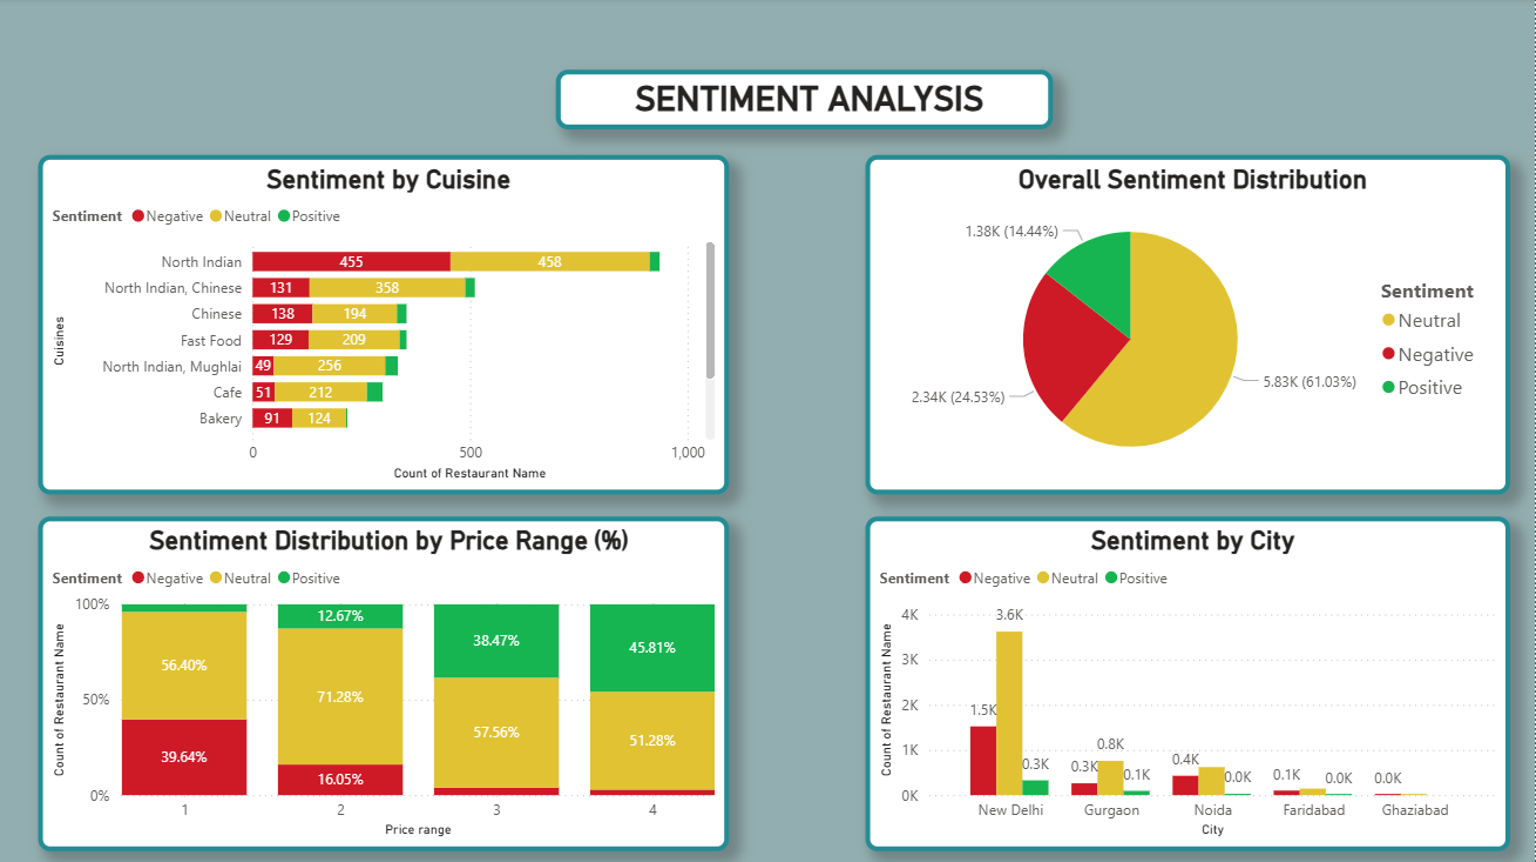

The page's visual inventory and layout, read from the dashboard file:
{"tool":"powerbi","page":{"name":"Page 2","canvas":[1280,720],"ordinal":1},"visuals":[{"type":"textbox","title":"SENTIMENT ANALYSIS","box":[463.8,60.4,414.4,49.4],"z":0},{"type":"pieChart","title":"Overall Sentiment Distribution","fields":{"Category":["zomato.Sentiment"],"Y":["CountNonNull(zomato.Restaurant Name)"]},"box":[721.8,130.4,537.9,282.7],"z":1000},{"type":"barChart","title":"Sentiment by Cuisine","fields":{"Category":["zomato.Cuisines"],"Series":["zomato.Sentiment"],"Y":["CountNonNull(zomato.Restaurant Name)"]},"box":[31.6,130.4,576.3,282.7],"z":2000},{"type":"clusteredColumnChart","title":"Sentiment by City","fields":{"Category":["zomato.City"],"Y":["CountNonNull(zomato.Restaurant Name)"],"Series":["zomato.Sentiment"]},"box":[721.8,432.2,537.9,278.6],"z":3000},{"type":"hundredPercentStackedColumnChart","title":"Sentiment Distribution by Price Range (%)","fields":{"Category":["zomato.Price range"],"Y":["CountNonNull(zomato.Restaurant Name)"],"Series":["zomato.Sentiment"]},"box":[31.6,432.2,576.3,278.6],"z":4000}]}

Visuals, with their boxes in screenshot pixels (x1, y1, x2, y2), scaled from the page's 1280x720 canvas onto the 1536x862 screenshot:
"SENTIMENT ANALYSIS" textbox: 557,72,1054,131
"Overall Sentiment Distribution" pieChart: 866,156,1512,495
"Sentiment by Cuisine" barChart: 38,156,729,495
"Sentiment by City" clusteredColumnChart: 866,517,1512,851
"Sentiment Distribution by Price Range (%)" hundredPercentStackedColumnChart: 38,517,729,851
